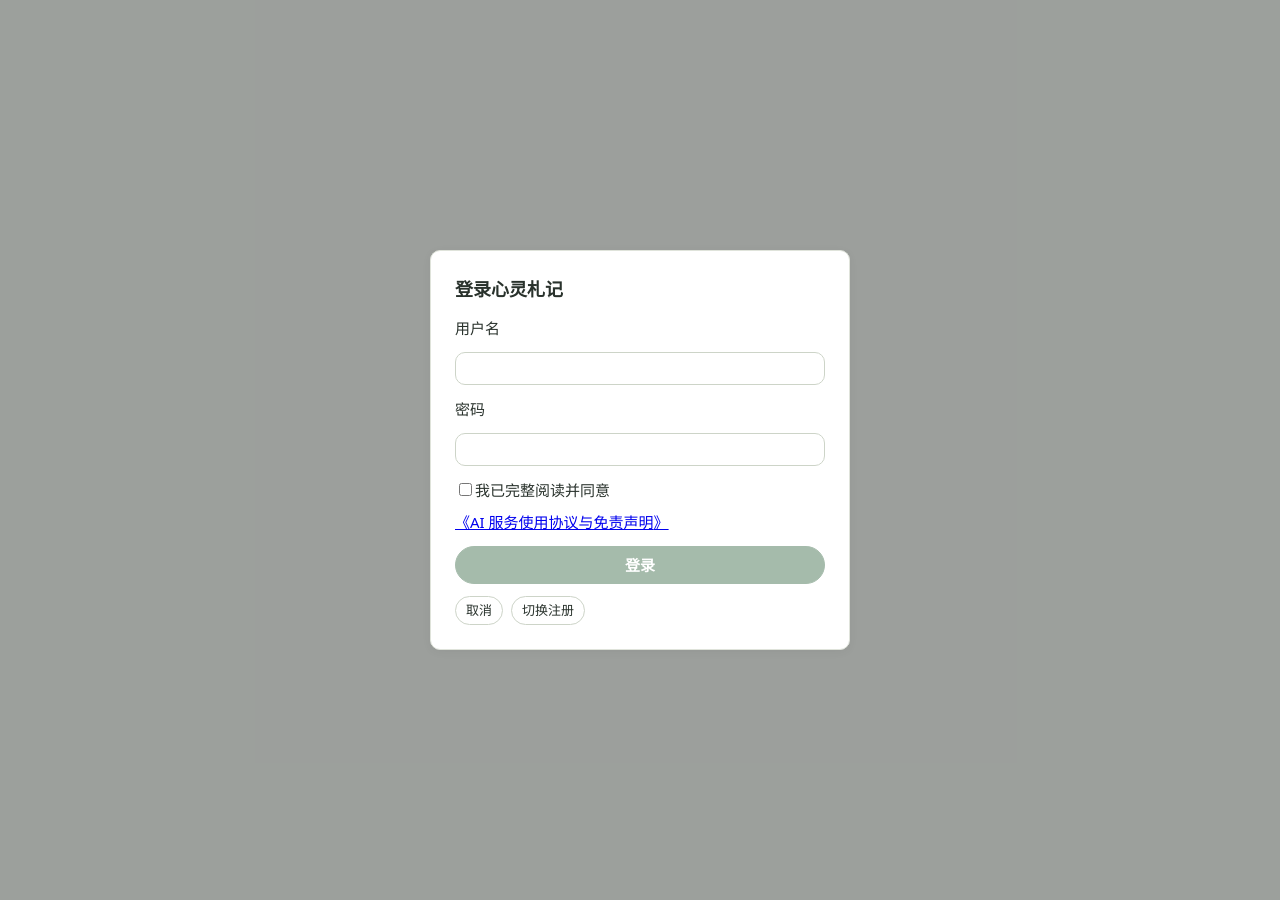
Scenario: LoginSheet (登录浮层) › 未勾协议: 填满账号密码提交仍禁用; 勾选解禁; 协议链接浮层内展开且不关浮层
Type "stu" into the field labelled "用户名" at (640, 368), box [455,352,825,385]
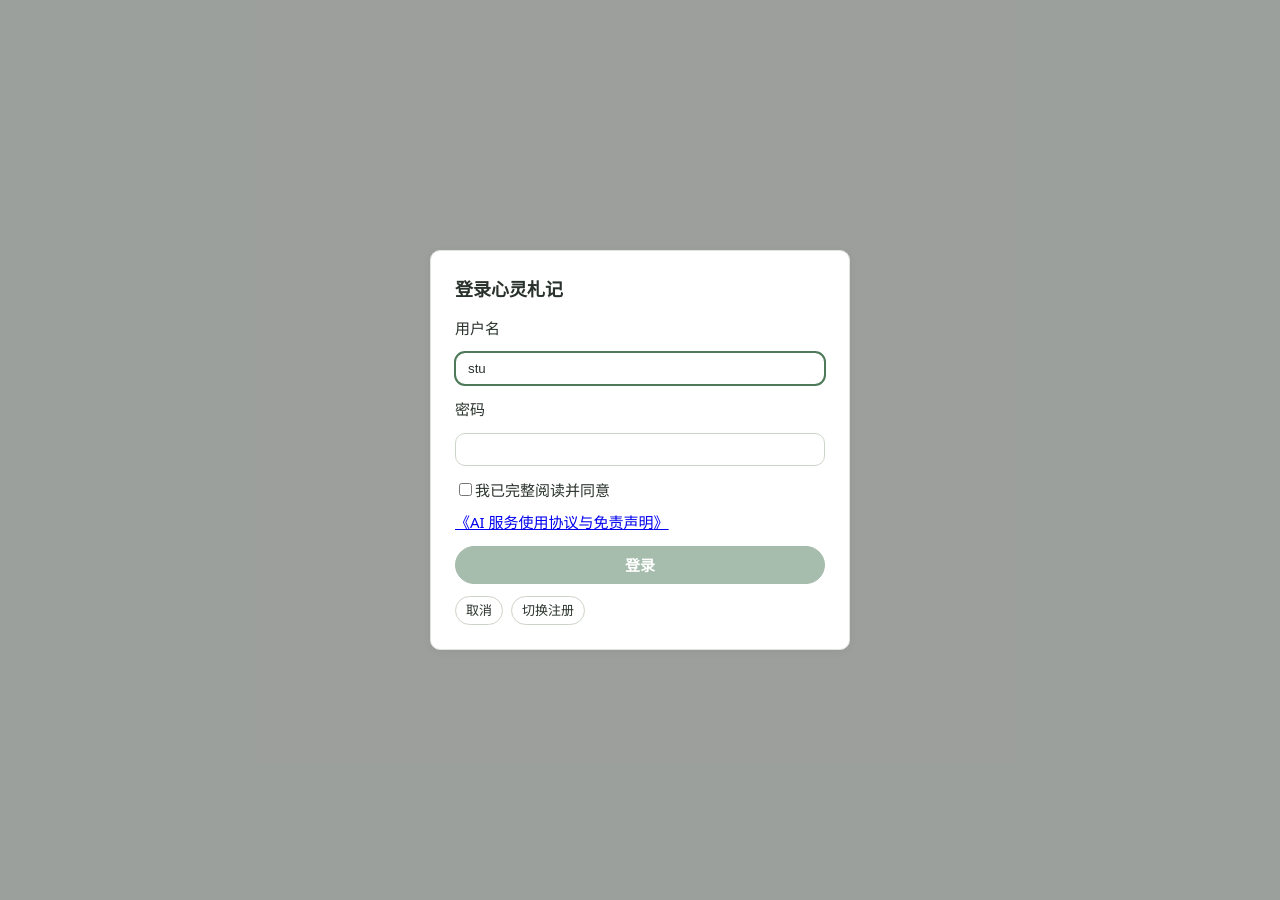
Type "pw123456" into the password field labelled "密码" at (640, 450), box [455,433,825,466]
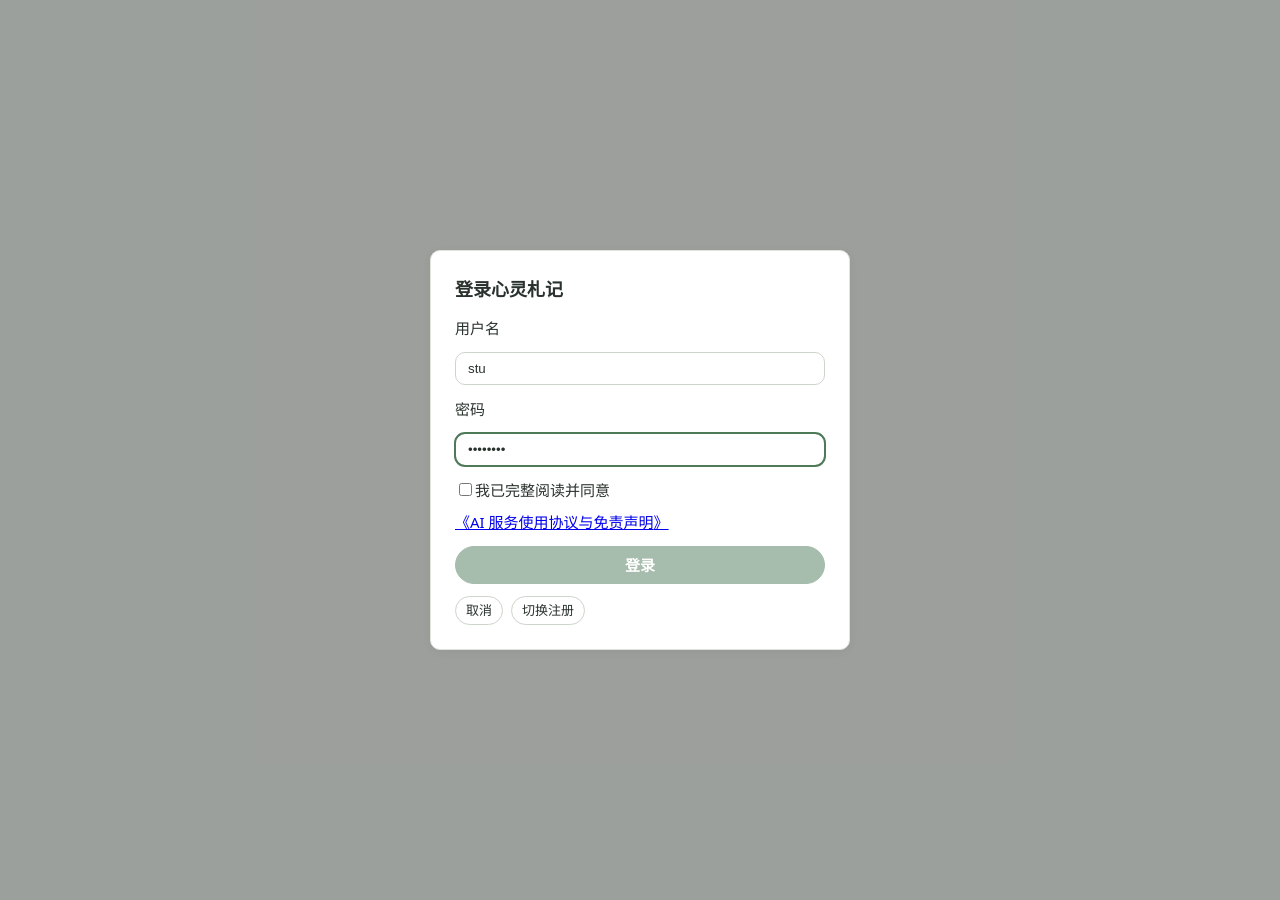
Expected: the button "登录" is disabled, [455,546,825,584]
Note: * 协议链接点击后全文出现在浮层内 (滚动区), 表单与浮层本体不消失.
Click the link "《AI 服务使用协议与免责声明》" at (562, 522), box [455,510,669,534]
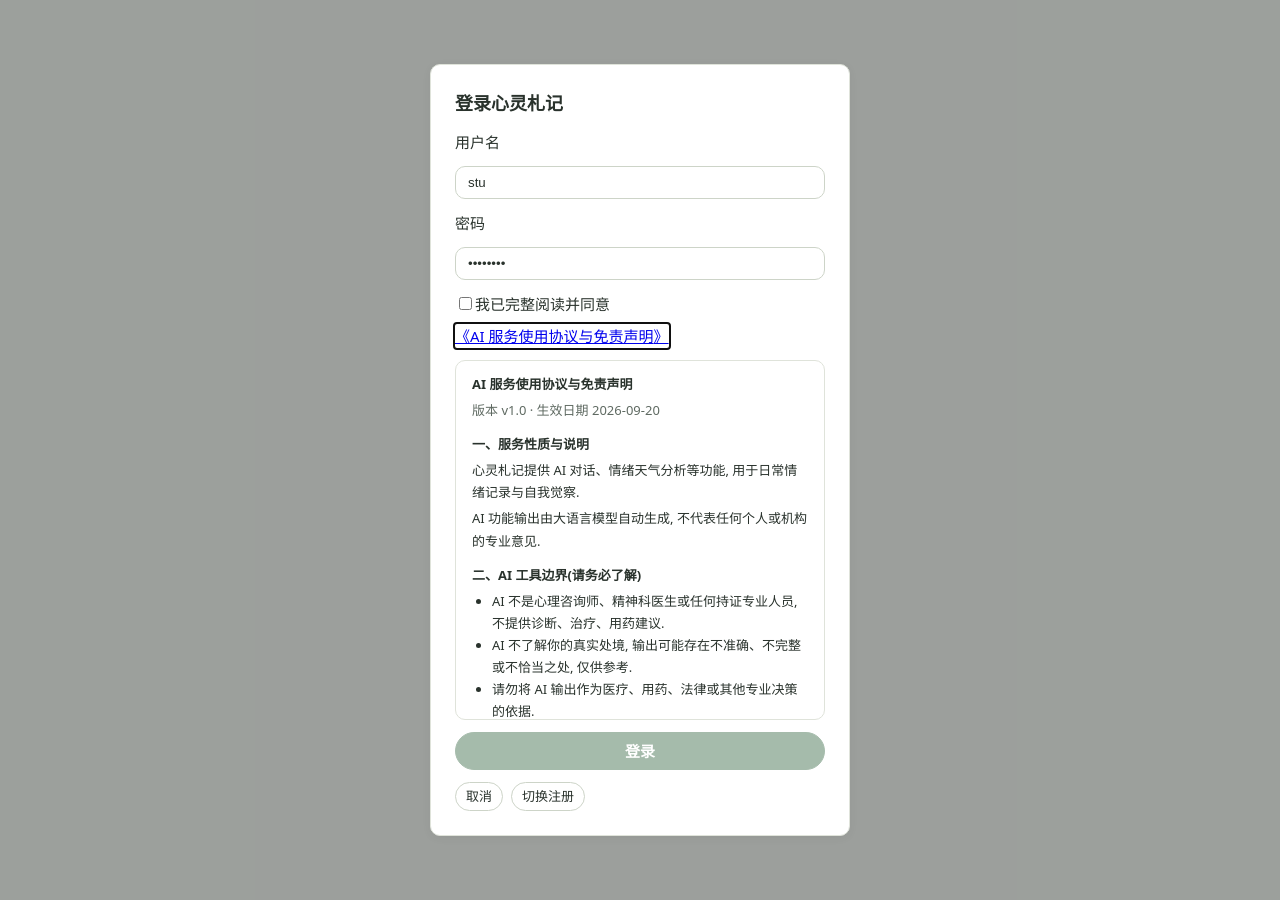
Click the checkbox labelled "我已完整阅读并同意" at (466, 304), box [459,297,472,310]
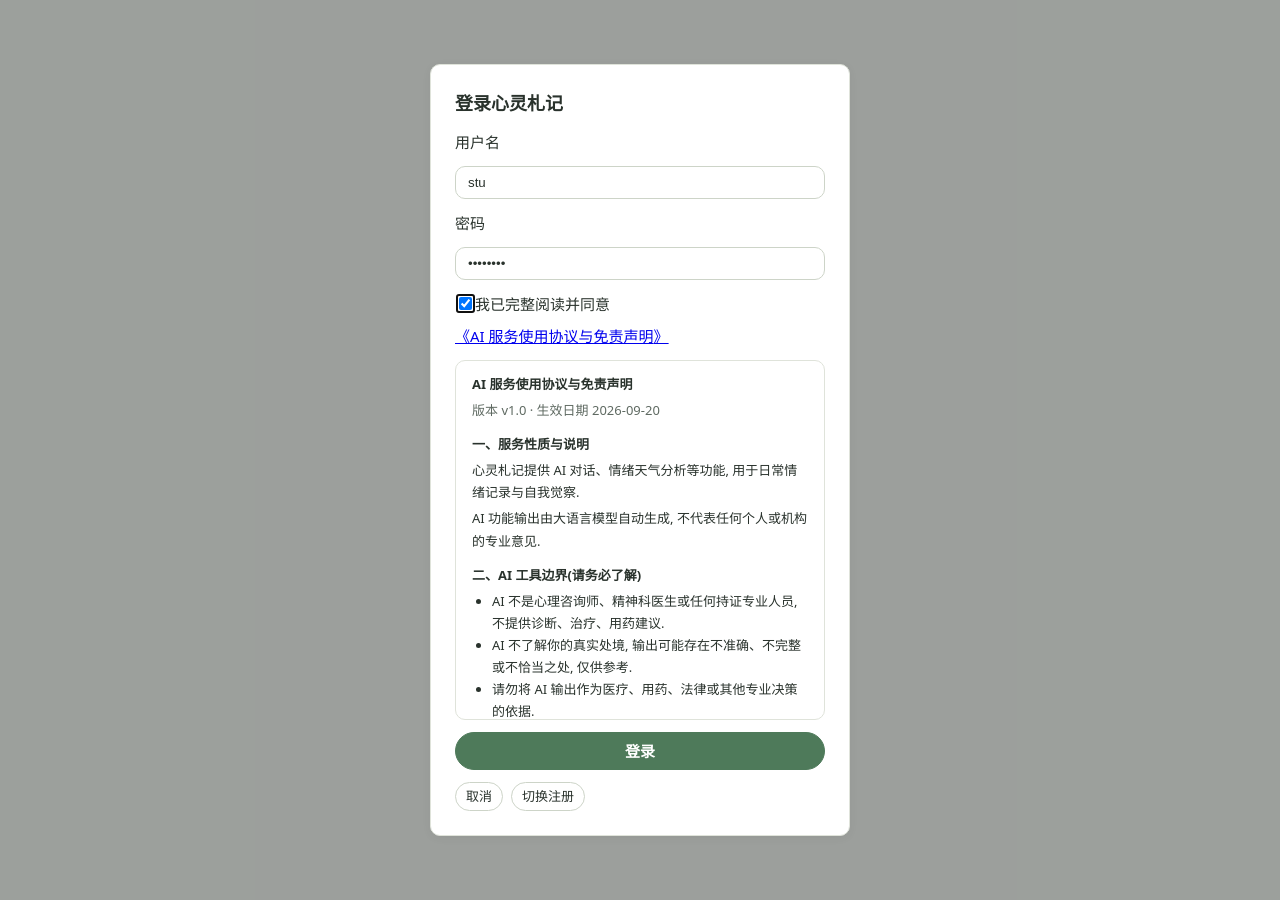
Expected: the button "登录" is enabled, [455,732,825,770]
